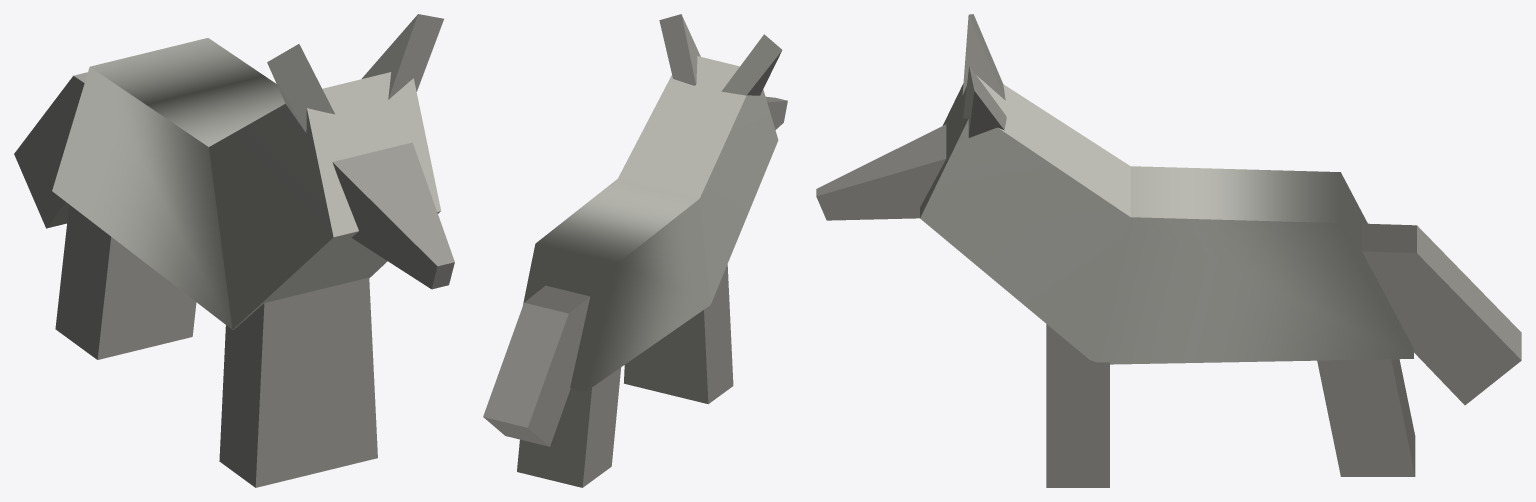
Rendered from wolf.fbx.
3 renders of one model, left to right at view 1: azimuth 30°, elevation 25°; view 2: azimuth 150°, elevation 25°; view 3: azimuth 270°, elevation 25°, orthographic. The views are drawn at different scales.
Parts seen in each view (by area): view 1: polySurface172; view 2: polySurface172; view 3: polySurface172.
Boxes of the visible parts, bbox=[...] form: polySurface172: bbox=[14, 14, 454, 487]; polySurface172: bbox=[483, 14, 787, 487]; polySurface172: bbox=[816, 14, 1521, 487].
Size of the model in its own units: 8.33 by 21.35 by 32.45.
Materials: 1 (1 with a texture image).
